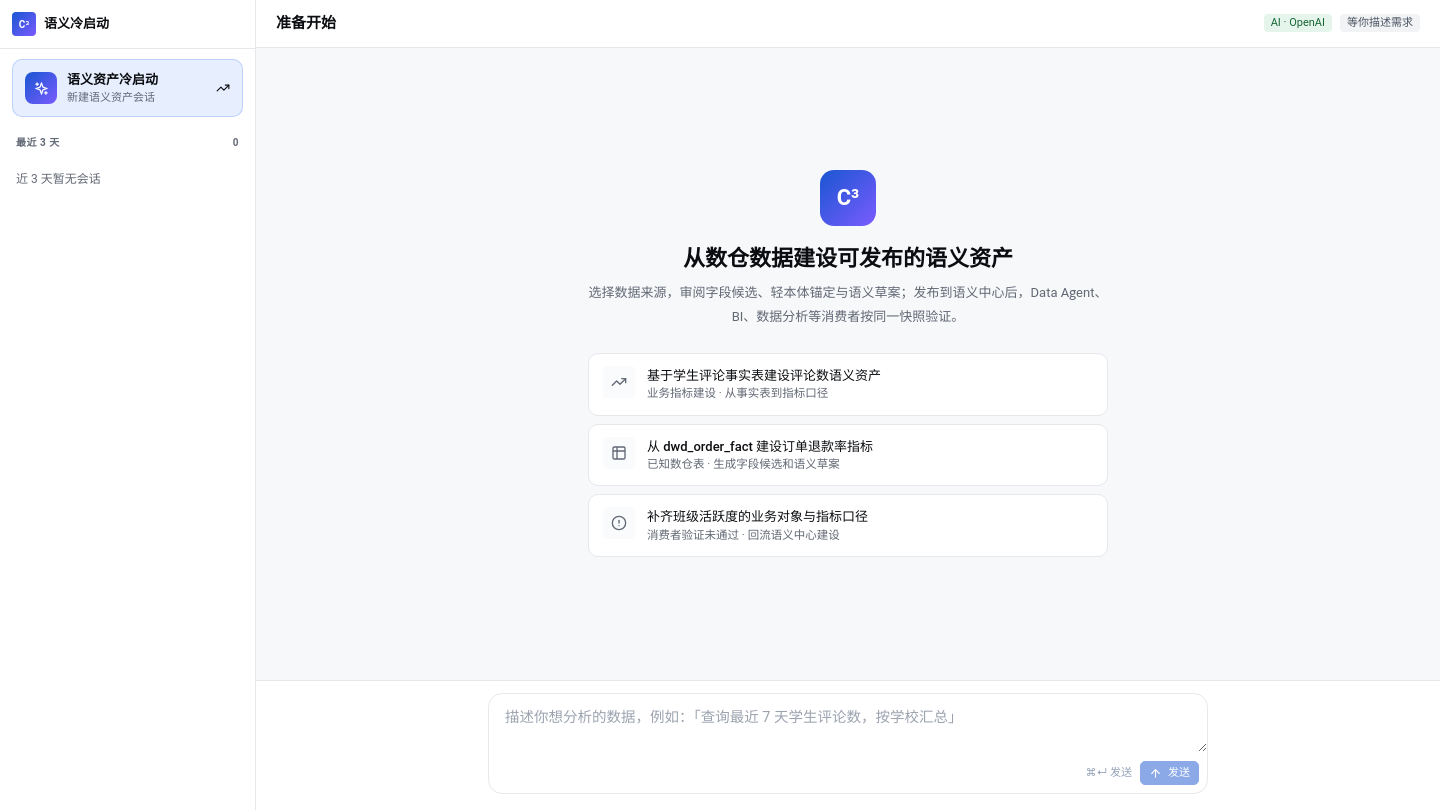
Test: ModelingAgent · 对话流与确认动作 › 点击示例卡把语义冷启动文案预填到 composer
Step 1. Click the text "基于学生评论事实表建设评论数语义资产" → point(764, 375), box [647,368,881,383]
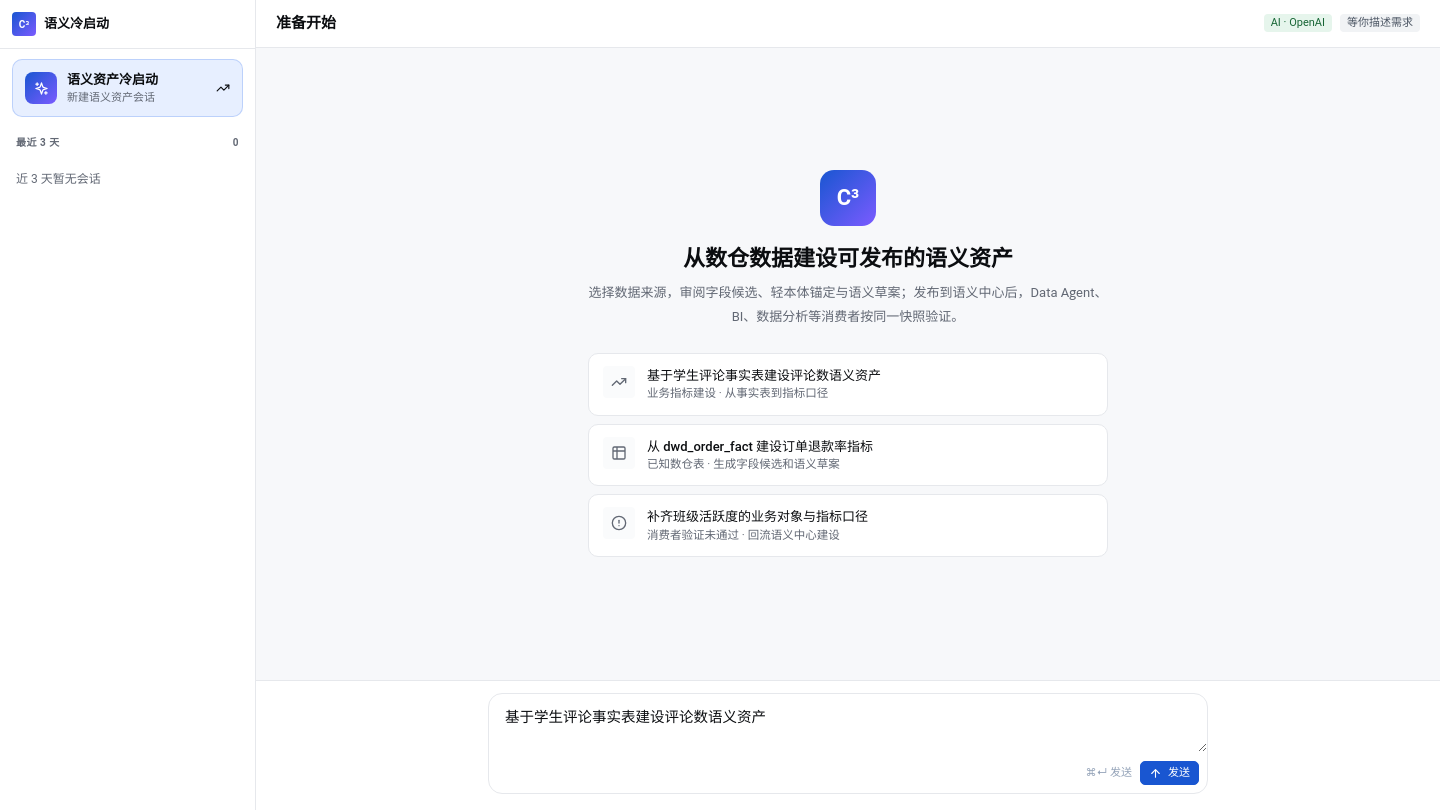
Check: the text box named "建模目标" holds "基于学生评论事实表建设评论数语义资产", box [489,694,1207,752]
